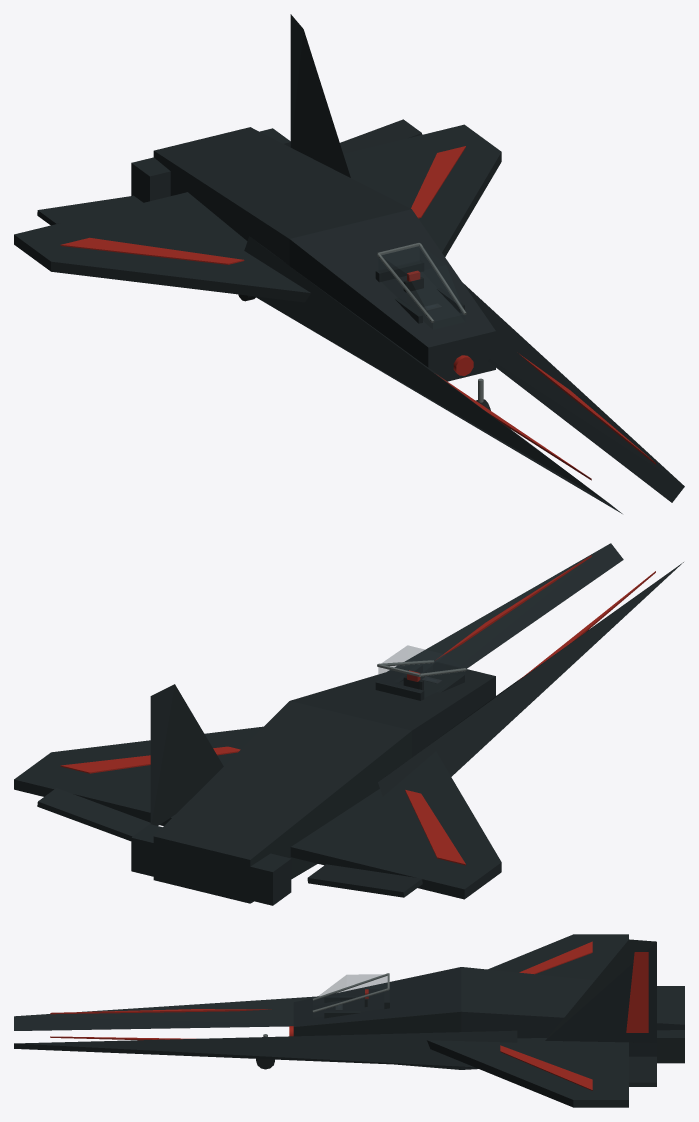
3 renders of one model, top to bottom at view 1: azimuth 30°, elevation 25°; view 2: azimuth 150°, elevation 25°; view 3: azimuth 270°, elevation 25°, orthographic. The views are drawn at different scales.
Parts seen in each view (by area): view 1: mothership-fighter-painted, breakaway-fighter-fin-1-painted, mothership-canopy-glazing, flap-left-painted, flap-right-painted, mothership-canopy-painted; view 2: mothership-fighter-painted, breakaway-fighter-fin-1-painted, flap-right-painted, mothership-canopy-glazing, flap-left-painted; view 3: mothership-fighter-painted, breakaway-fighter-fin-1-painted, mothership-canopy-glazing, flap-right-painted, mothership-canopy-painted.
Boxes of the visible parts, bbox=[...] form: mothership-fighter-painted: bbox=[14, 124, 684, 513]; breakaway-fighter-fin-1-painted: bbox=[290, 14, 350, 177]; mothership-canopy-glazing: bbox=[378, 246, 464, 328]; flap-left-painted: bbox=[37, 195, 143, 225]; flap-right-painted: bbox=[340, 119, 422, 153]; mothership-canopy-painted: bbox=[377, 243, 466, 322]; mothership-fighter-painted: bbox=[14, 543, 683, 905]; breakaway-fighter-fin-1-painted: bbox=[150, 684, 223, 825]; flap-right-painted: bbox=[37, 788, 150, 841]; mothership-canopy-glazing: bbox=[378, 645, 464, 696]; flap-left-painted: bbox=[307, 864, 422, 897]; mothership-fighter-painted: bbox=[14, 934, 684, 1107]; breakaway-fighter-fin-1-painted: bbox=[545, 939, 656, 1042]; mothership-canopy-glazing: bbox=[313, 974, 387, 1016]; flap-right-painted: bbox=[629, 1056, 656, 1086]; mothership-canopy-painted: bbox=[313, 973, 389, 1012].
Bounding box in the file's own units: 73.68 × 31.58 × 126.
